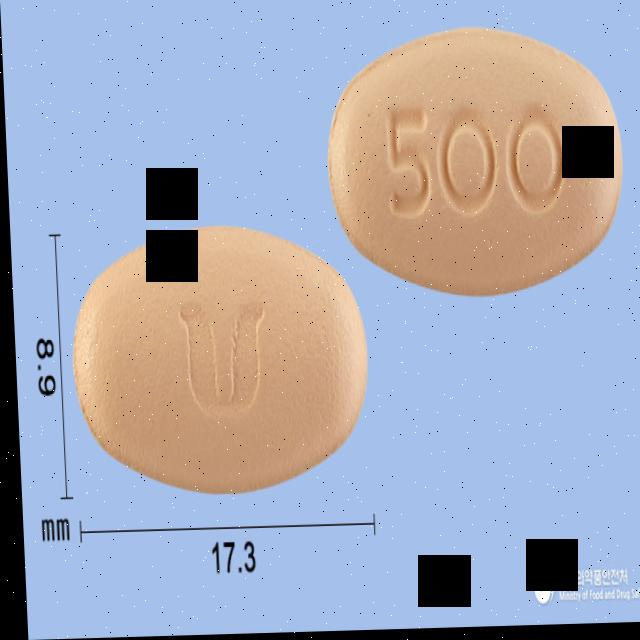Ciroxin - 250mg: (322, 27, 627, 305), (65, 220, 369, 497)
